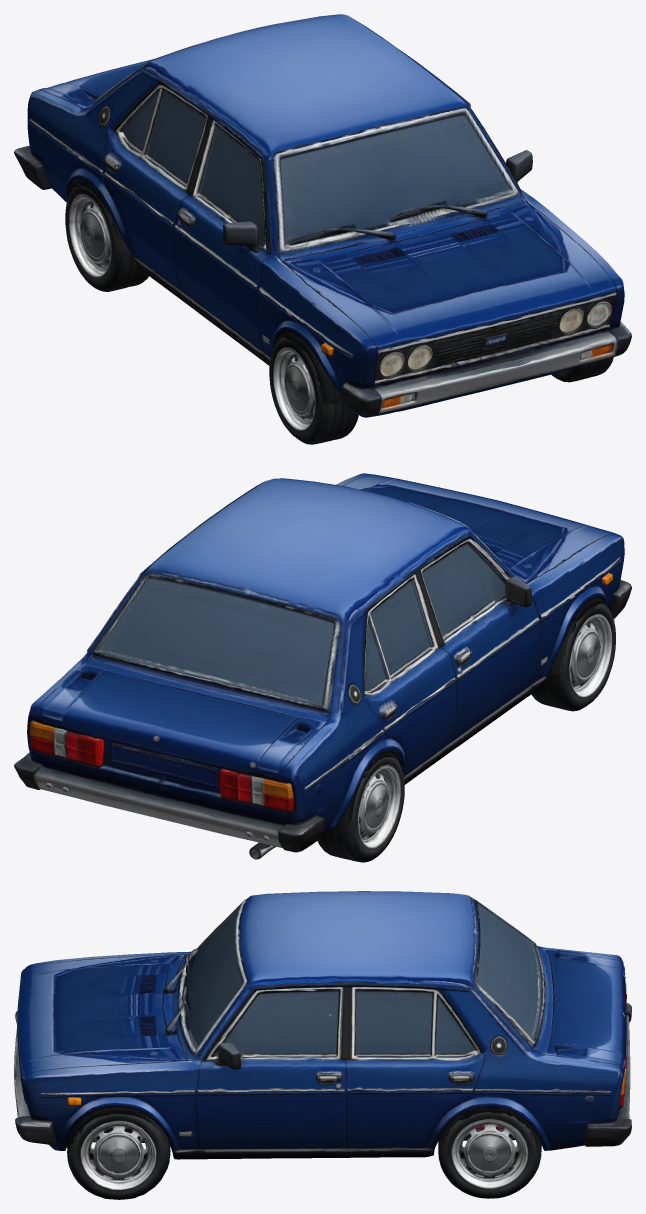
The model's file is tofas_murat_131.glb.
3 renders of one model, top to bottom at view 1: azimuth 30°, elevation 25°; view 2: azimuth 150°, elevation 25°; view 3: azimuth 270°, elevation 25°, orthographic. The views are drawn at different scales.
Visible parts, largest first — view 1: tripo_part_0, tripo_part_6, tripo_part_2, tripo_part_9, tripo_part_4, tripo_part_21, tripo_part_12, tripo_part_22, tripo_part_8, tripo_part_7, tripo_part_15, tripo_part_42 (+8 smaller); view 2: tripo_part_0, tripo_part_18, tripo_part_15, tripo_part_6, tripo_part_9, tripo_part_23, tripo_part_4, tripo_part_12, tripo_part_22, tripo_part_17, tripo_part_7, tripo_part_38 (+8 smaller); view 3: tripo_part_0, tripo_part_6, tripo_part_19, tripo_part_20, tripo_part_13, tripo_part_3, tripo_part_5, tripo_part_15, tripo_part_18, tripo_part_2, tripo_part_48, tripo_part_1 (+6 smaller).
Boxes of the visible parts, bbox=[...] form: tripo_part_0: bbox=[27, 14, 624, 417]; tripo_part_6: bbox=[284, 202, 617, 349]; tripo_part_2: bbox=[273, 108, 520, 254]; tripo_part_9: bbox=[173, 197, 269, 352]; tripo_part_4: bbox=[269, 332, 358, 444]; tripo_part_21: bbox=[375, 332, 617, 413]; tripo_part_12: bbox=[114, 83, 206, 190]; tripo_part_22: bbox=[192, 120, 266, 251]; tripo_part_8: bbox=[431, 310, 558, 374]; tripo_part_7: bbox=[65, 180, 148, 291]; tripo_part_15: bbox=[39, 59, 153, 107]; tripo_part_42: bbox=[103, 73, 158, 131]; tripo_part_0: bbox=[27, 473, 624, 833]; tripo_part_18: bbox=[92, 572, 341, 714]; tripo_part_15: bbox=[60, 671, 323, 779]; tripo_part_6: bbox=[344, 474, 612, 582]; tripo_part_9: bbox=[443, 596, 540, 744]; tripo_part_23: bbox=[65, 729, 259, 801]; tripo_part_4: bbox=[531, 598, 615, 711]; tripo_part_12: bbox=[364, 575, 435, 697]; tripo_part_22: bbox=[420, 538, 507, 645]; tripo_part_17: bbox=[35, 766, 283, 847]; tripo_part_7: bbox=[317, 751, 404, 862]; tripo_part_38: bbox=[222, 776, 294, 815]; tripo_part_0: bbox=[21, 891, 624, 1154]; tripo_part_6: bbox=[17, 954, 185, 1077]; tripo_part_19: bbox=[196, 1061, 346, 1149]; tripo_part_20: bbox=[353, 986, 482, 1061]; tripo_part_13: bbox=[209, 987, 342, 1062]; tripo_part_3: bbox=[66, 1107, 170, 1199]; tripo_part_5: bbox=[438, 1108, 541, 1198]; tripo_part_15: bbox=[545, 949, 625, 1064]; tripo_part_18: bbox=[472, 899, 544, 1049]; tripo_part_2: bbox=[177, 899, 247, 1057]; tripo_part_48: bbox=[442, 991, 501, 1049]; tripo_part_1: bbox=[93, 1126, 503, 1159].
Bounding box in the file's own units: 0.5126 × 0.3772 × 0.9999.
Materials: 1 (1 with a texture image).
